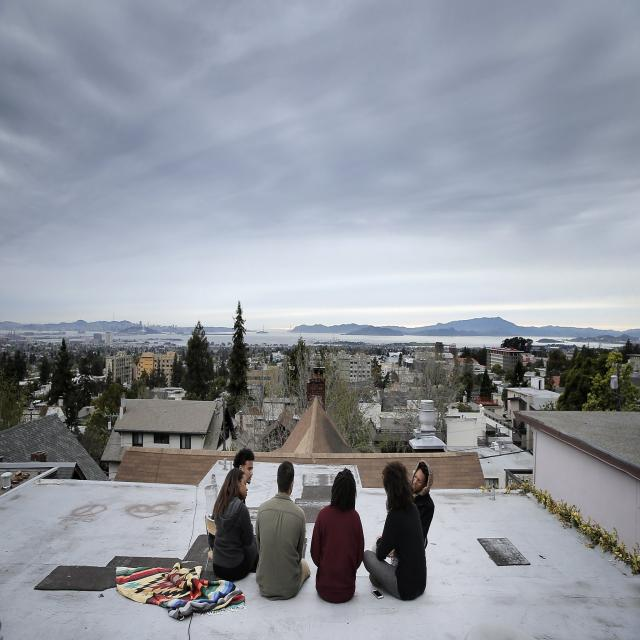body: (361, 458, 428, 602), (255, 459, 311, 602), (309, 465, 365, 606), (371, 460, 436, 558), (211, 466, 259, 584), (208, 446, 255, 556)
